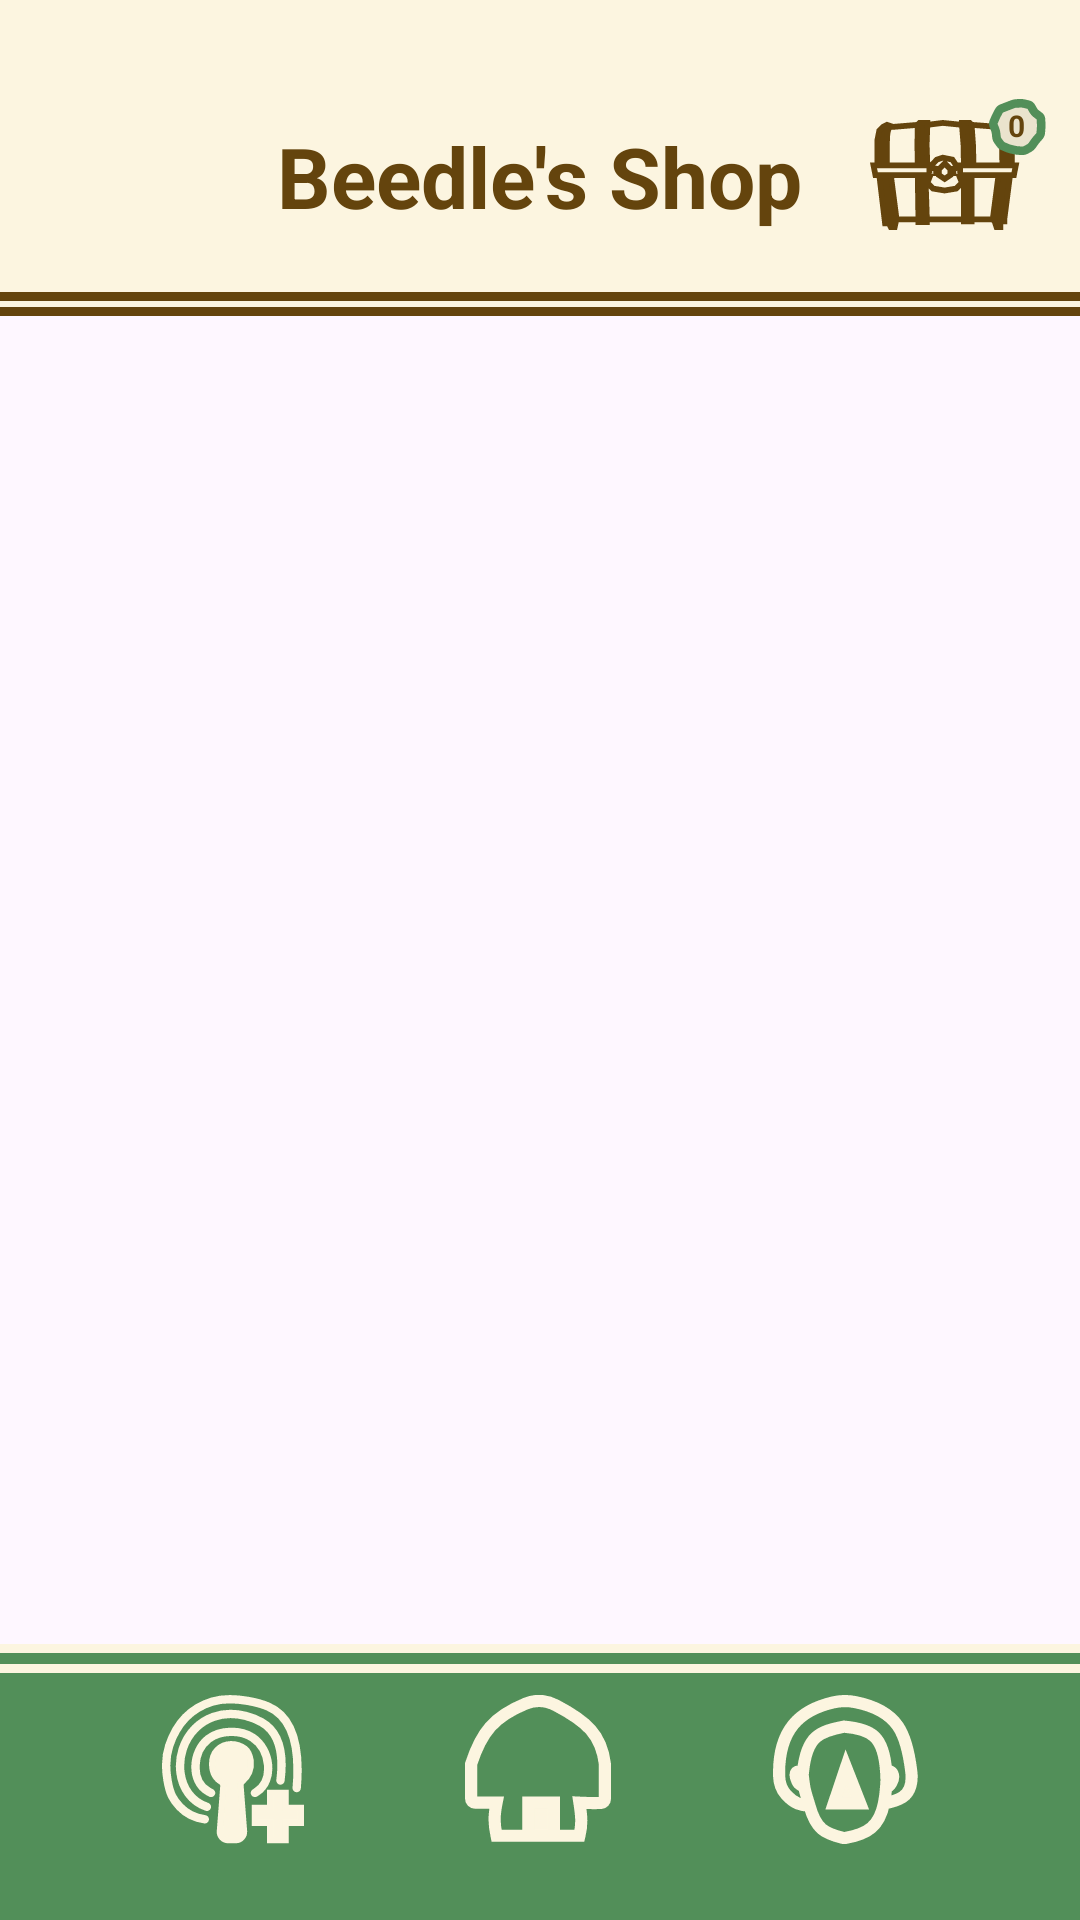

Icon click points for this 1080w x 1920h phone screenshot, format (x=x, y=y):
chest for cart: (x=945, y=165)
